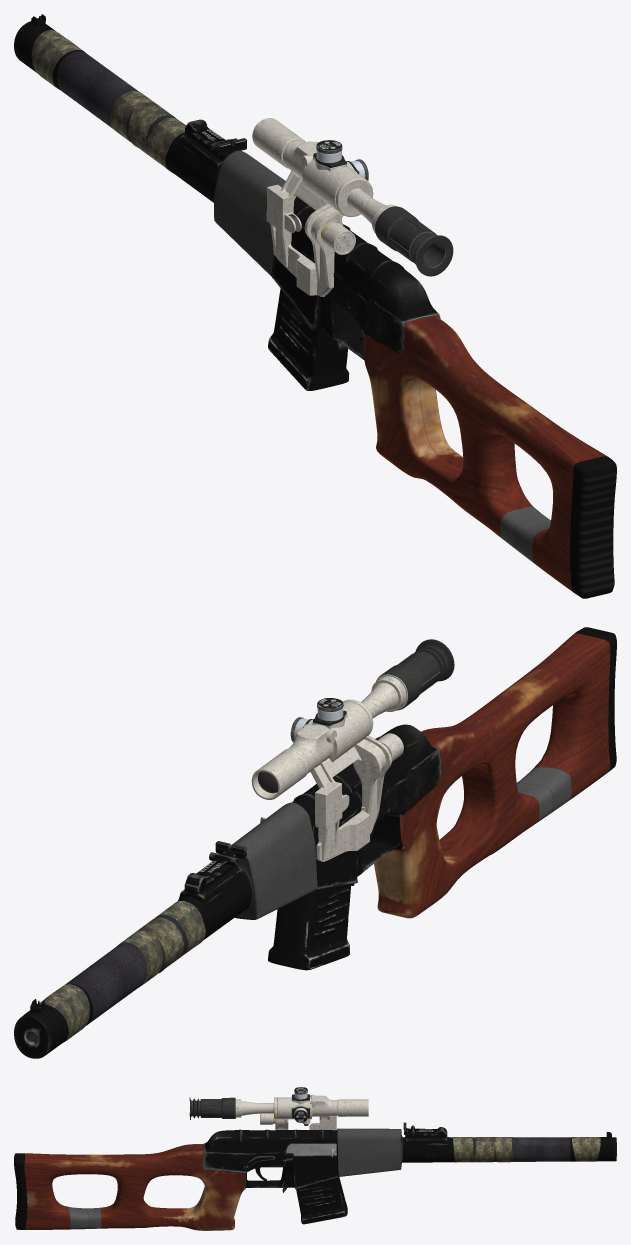
The model's file is vss_vintorez.glb.
The picture shows the model from 3 angles, top to bottom: view 1: azimuth 30°, elevation 25°; view 2: azimuth 150°, elevation 25°; view 3: azimuth 270°, elevation 25°; orthographic projection. The views are drawn at different scales.
Parts seen in each view (by area): view 1: Cube.018, Cube.015, Cube.017, Cylinder.008, Cylinder.007, Cylinder.011, Cylinder.009; view 2: Cube.018, Cube.015, Cube.017, Cylinder.007, Cylinder.008, Cylinder.011, Cylinder.009; view 3: Cube.018, Cube.015, Cube.017, Plane.004, Cube.016, Cylinder.007, Cylinder.008, Cylinder.009, Cylinder.011, Cylinder.010.
Boxes of the visible parts, box(x1,y1,x2,y2) form: Cube.018: box(14, 14, 616, 598); Cube.015: box(252, 118, 453, 296); Cube.017: box(268, 288, 349, 390); Cylinder.008: box(128, 102, 175, 157); Cylinder.007: box(146, 117, 186, 173); Cylinder.011: box(36, 38, 85, 89); Cylinder.009: box(110, 91, 157, 142); Cube.018: box(14, 627, 616, 1058); Cube.015: box(251, 639, 454, 861); Cube.017: box(268, 884, 351, 970); Cylinder.007: box(155, 901, 205, 957); Cylinder.008: box(136, 917, 183, 973); Cylinder.011: box(45, 984, 89, 1041); Cylinder.009: box(119, 930, 162, 987); Cube.018: box(14, 1122, 616, 1230); Cube.015: box(189, 1087, 368, 1130); Cube.017: box(296, 1177, 347, 1224); Plane.004: box(286, 1143, 336, 1157); Cube.016: box(242, 1153, 293, 1170); Cylinder.007: box(453, 1137, 474, 1162); Cylinder.008: box(474, 1137, 495, 1162); Cylinder.009: box(495, 1137, 514, 1162); Cylinder.011: box(572, 1137, 593, 1161); Cylinder.010: box(589, 1137, 600, 1161).
Bounding box in the file's own units: 0.7539 × 2.42 × 9.63.
Materials: 4 (3 with a texture image).
